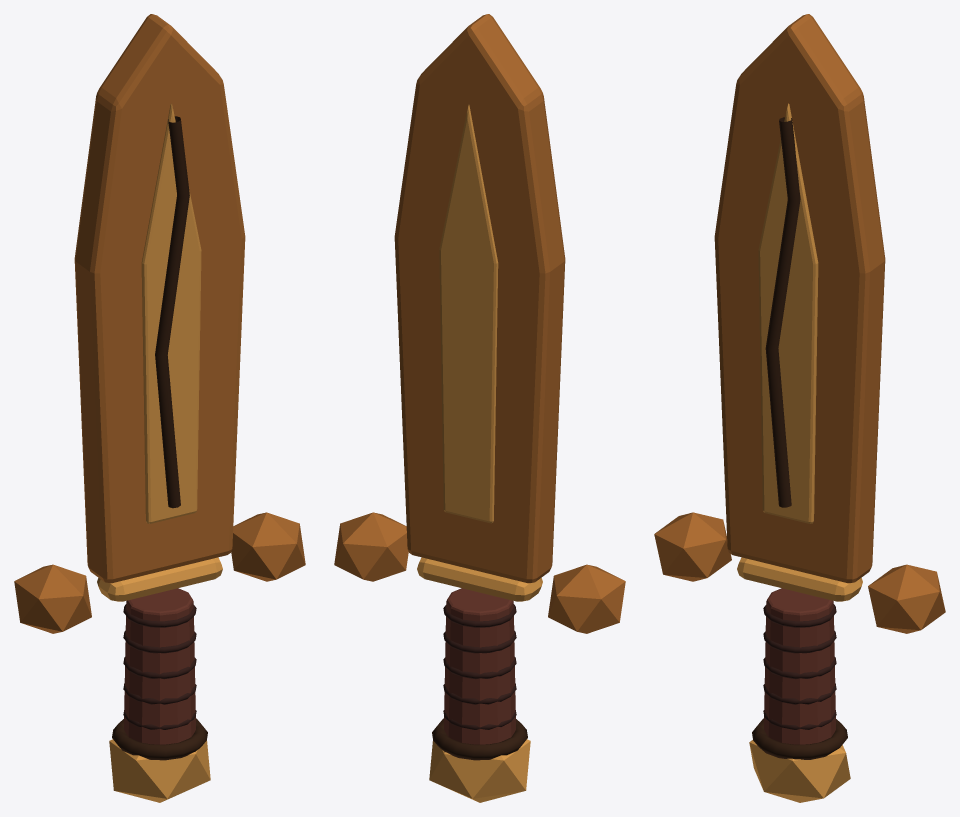
The model's file is wpn-sword-wooden.glb.
The picture shows the model from 3 angles, left to right: view 1: azimuth 30°, elevation 25°; view 2: azimuth 150°, elevation 25°; view 3: azimuth 330°, elevation 25°; orthographic projection.
Visible parts, largest first — view 1: wpn-sword-wooden; view 2: wpn-sword-wooden; view 3: wpn-sword-wooden.
Boxes of the visible parts, bbox=[...] form: wpn-sword-wooden: bbox=[14, 14, 305, 802]; wpn-sword-wooden: bbox=[334, 14, 625, 802]; wpn-sword-wooden: bbox=[654, 14, 945, 802].
Size of the model in its own units: 0.3794 by 1.02 by 0.114.
